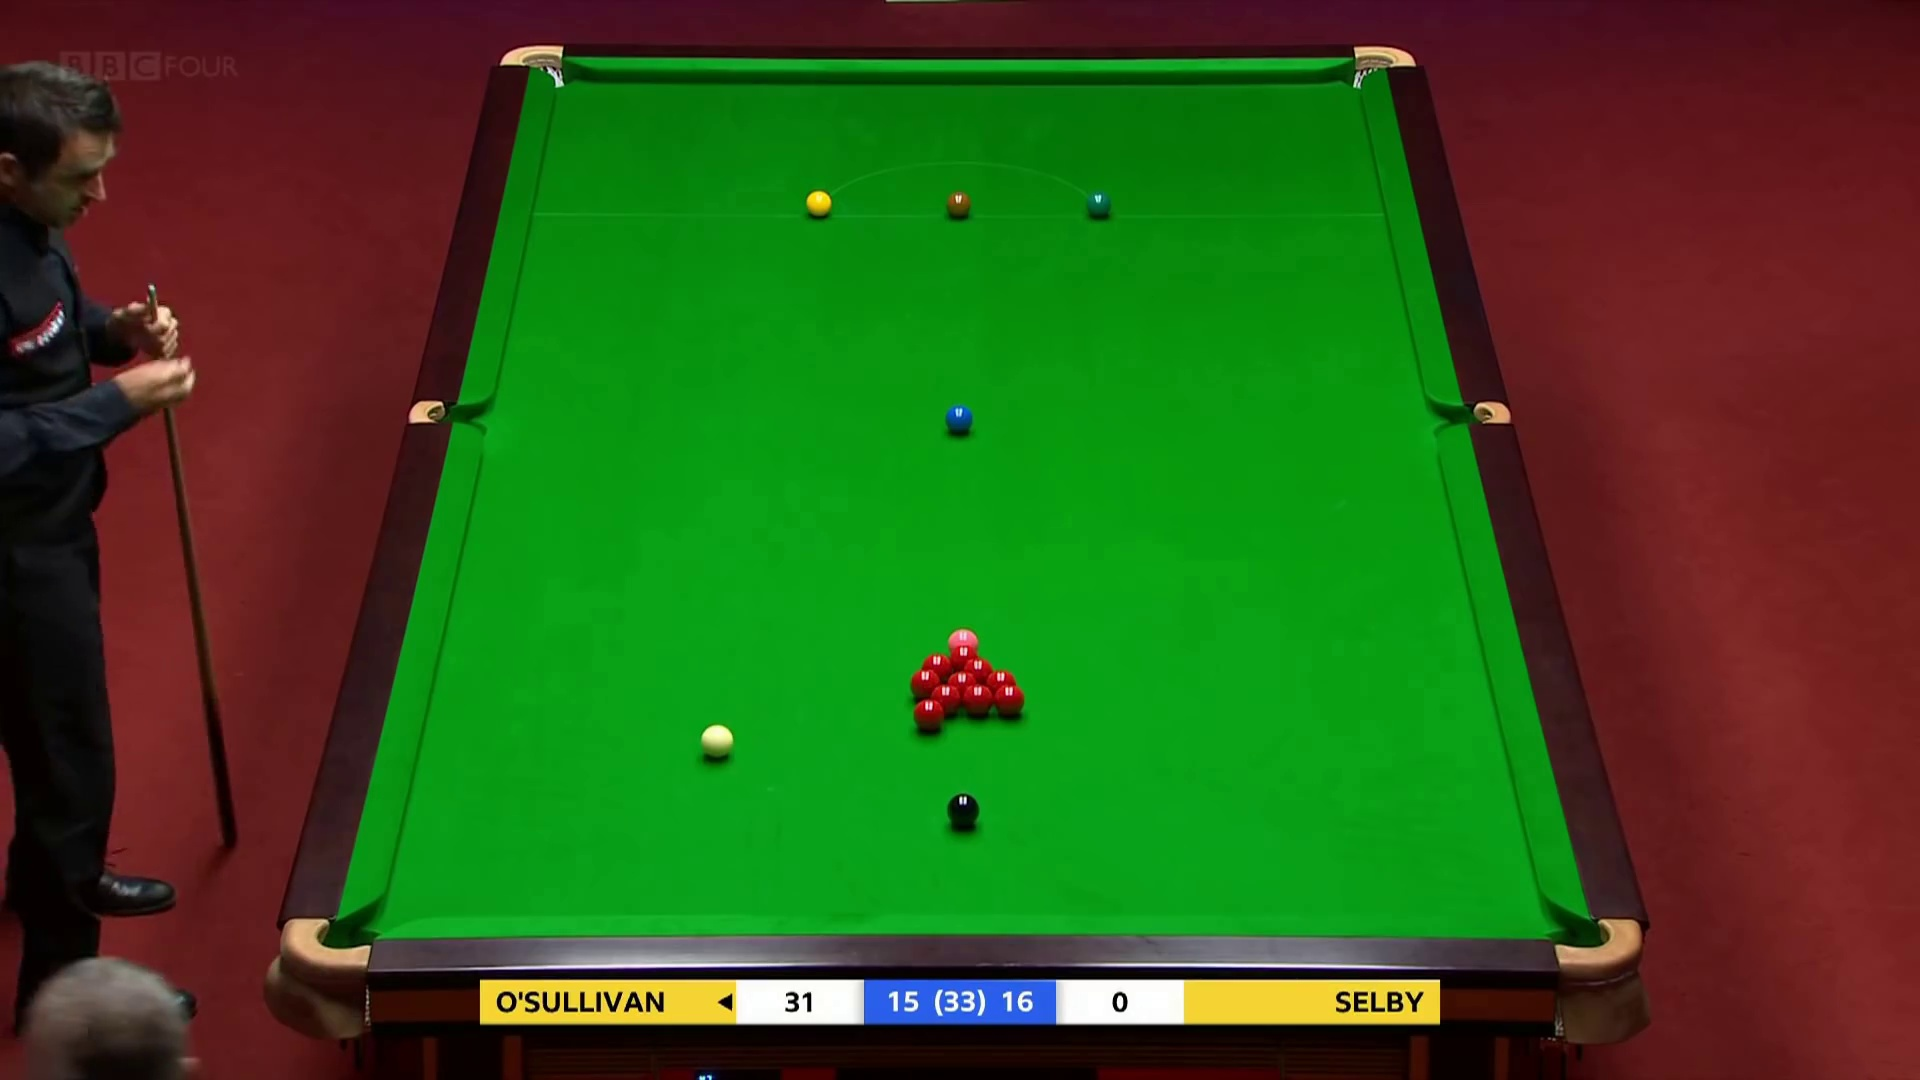black: (945, 791, 982, 836)
blue: (945, 402, 976, 436)
brown: (942, 190, 976, 223)
green: (1083, 189, 1116, 224)
pink: (947, 626, 980, 659)
red: (911, 694, 949, 737), (963, 682, 996, 729), (905, 665, 943, 705), (928, 680, 963, 723), (943, 671, 978, 707), (994, 684, 1029, 720), (920, 651, 952, 690), (961, 655, 998, 687), (986, 669, 1015, 703)
white: (699, 721, 741, 764)
yellow: (803, 186, 835, 224)
